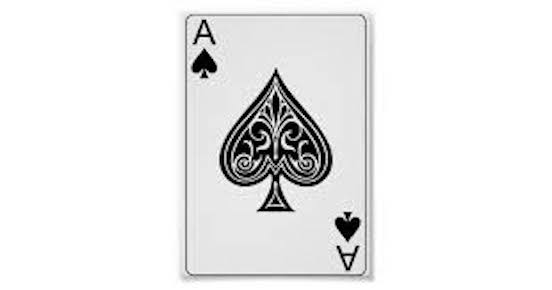AceOfSpades: (182, 8, 373, 280)
